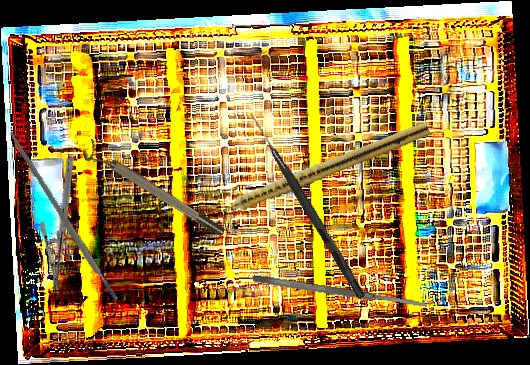Fixation Ring: (80, 138, 227, 245)
Handpiece: (205, 116, 432, 224)
Hook Surgical: (244, 111, 369, 300)
Needle Holder: (7, 156, 119, 292)
Scalpel Handle: (6, 130, 120, 303)
Spatula Surgical: (252, 273, 428, 311)
